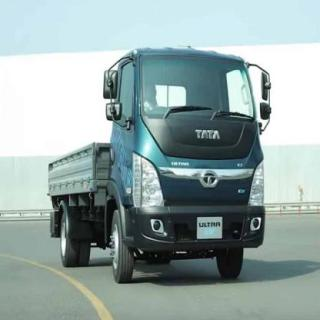Normal_vehicle: (45, 40, 275, 284)
